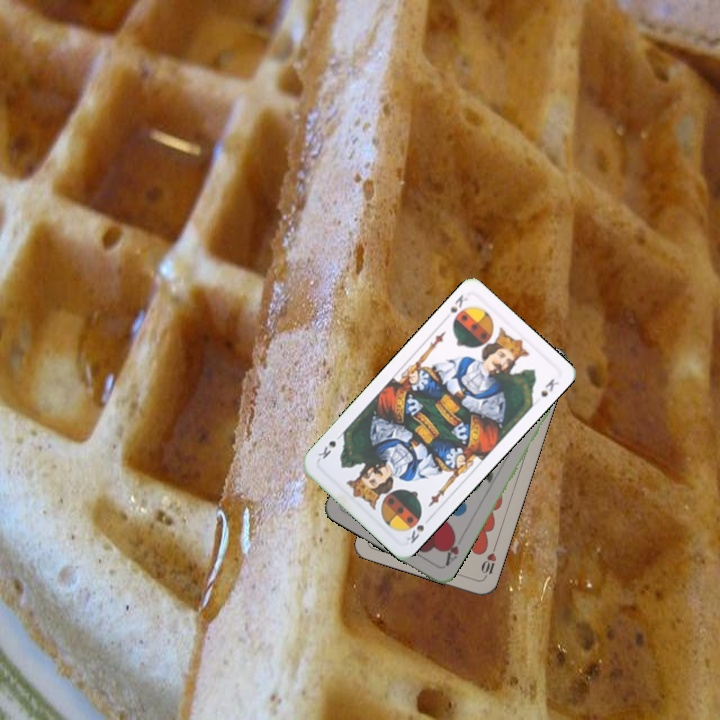H10: (477, 542, 499, 581)
HA: (441, 531, 462, 569)
SK: (440, 290, 470, 324), (401, 521, 427, 546)
